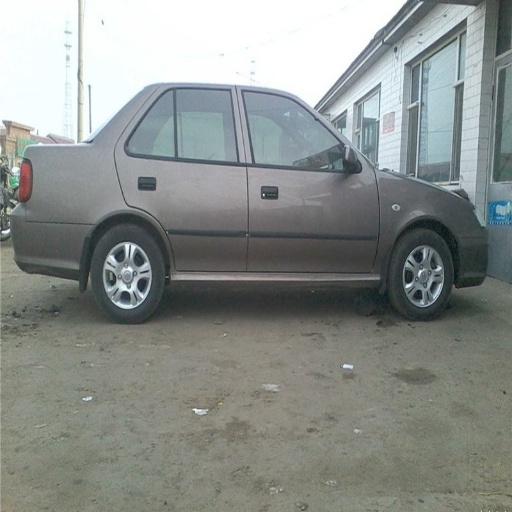back_right_door: (117, 85, 247, 270)
